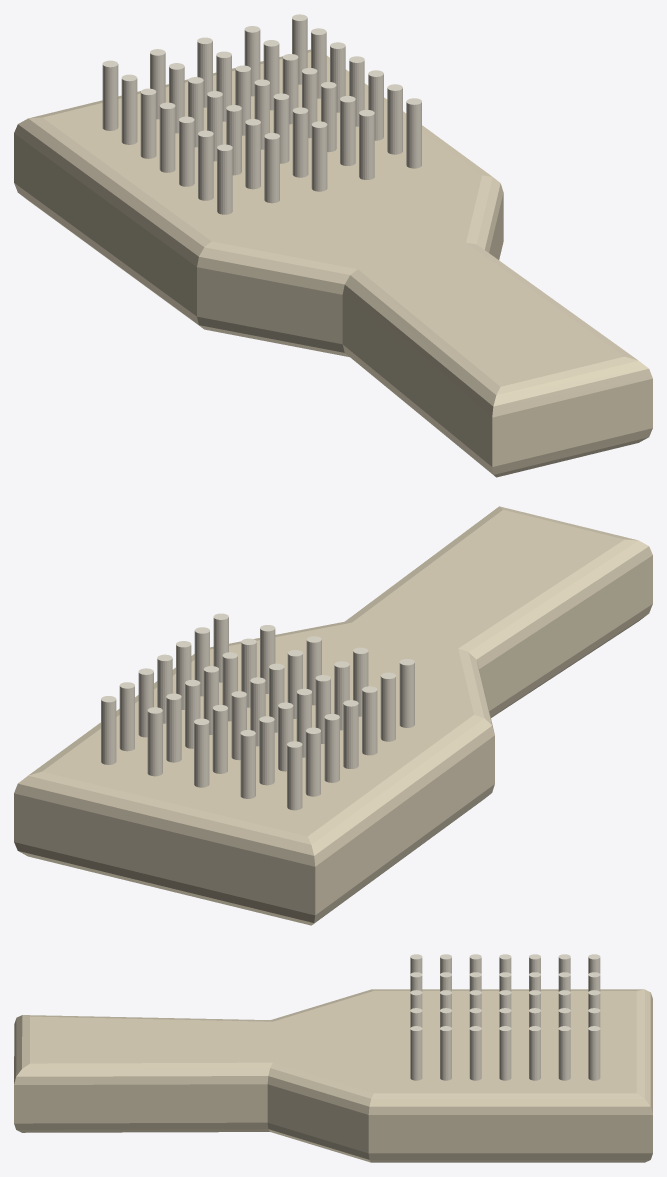
The model's file is indoor-climbing-and-bouldering-gym-indoor-climbing-and-cff2a5aa__31544.glb.
The picture shows the model from 3 angles, top to bottom: view 1: azimuth 30°, elevation 25°; view 2: azimuth 150°, elevation 25°; view 3: azimuth 270°, elevation 25°; orthographic projection. The views are drawn at different scales.
Visible parts, largest first — view 1: indoor-climbing-and-bouldering-gym-handheld-hold-brush; view 2: indoor-climbing-and-bouldering-gym-handheld-hold-brush; view 3: indoor-climbing-and-bouldering-gym-handheld-hold-brush.
Part boxes in pixels (x1,y1,x2,y2): indoor-climbing-and-bouldering-gym-handheld-hold-brush: (14, 14, 652, 477); indoor-climbing-and-bouldering-gym-handheld-hold-brush: (14, 506, 652, 925); indoor-climbing-and-bouldering-gym-handheld-hold-brush: (14, 954, 652, 1162).
Size of the model in its own units: 0.136 by 0.064 by 0.316.
